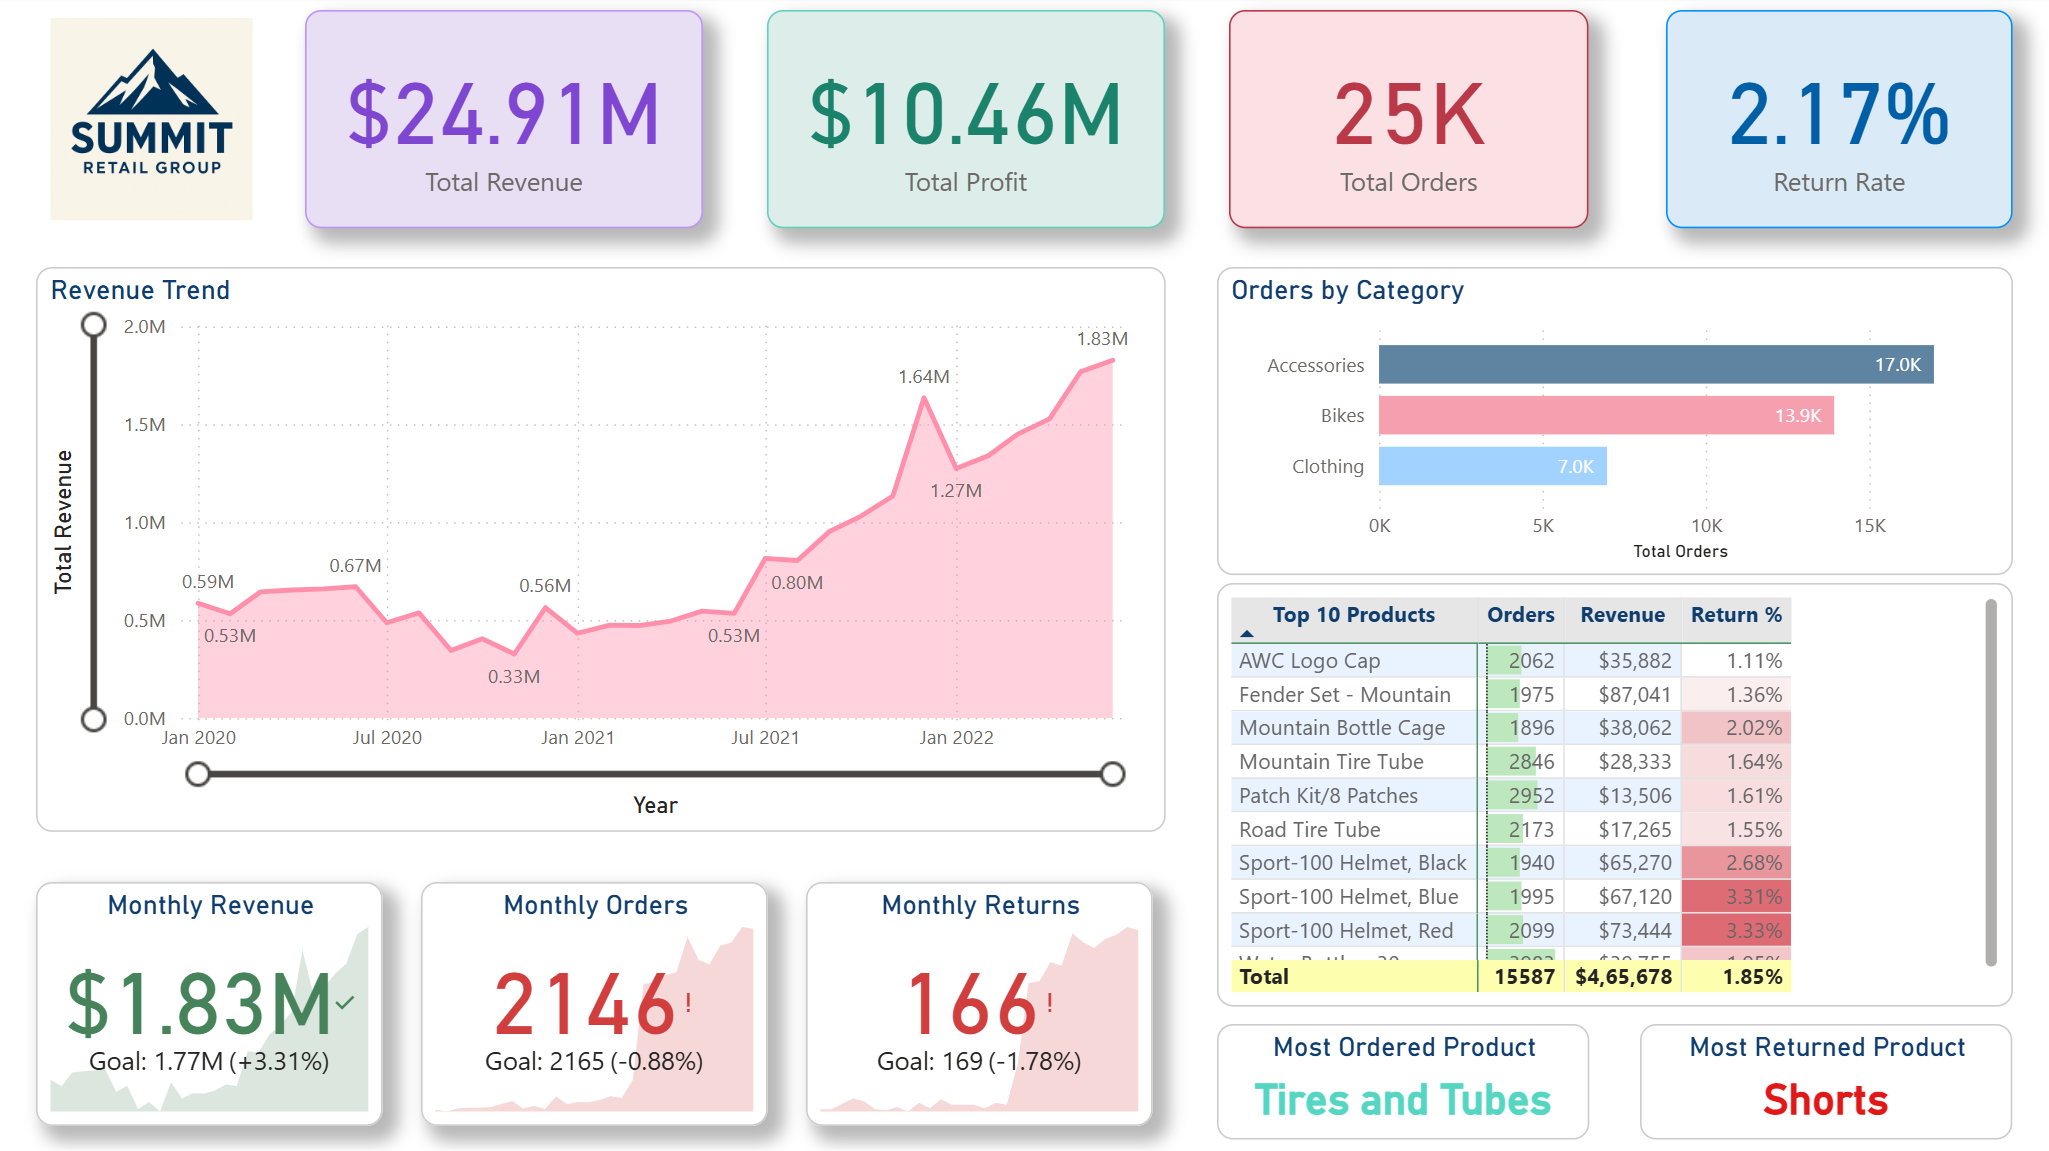

The page's visual inventory and layout, read from the dashboard file:
{"tool":"powerbi","page":{"name":"Executive Summary","canvas":[1280,720],"ordinal":0},"visuals":[{"type":"card","fields":{"Values":["Measure Table.Total Revenue"]},"box":[192,8,248,136],"z":0},{"type":"card","fields":{"Values":["Measure Table.Total Profit"]},"box":[480,8,248,136],"z":1000},{"type":"card","fields":{"Values":["Measure Table.Total Orders"]},"box":[768,8,224,136],"z":2000},{"type":"card","fields":{"Values":["Measure Table.Return Rate"]},"box":[1040,8,216,136],"z":3000},{"type":"image","box":[24,8,144,136],"z":4000},{"type":"clusteredBarChart","title":"Orders by Category","fields":{"Y":["Measure Table.Total Orders"],"Category":["Categories.CategoryName"]},"box":[760,168,496,192],"z":5000},{"type":"lineChart","title":"Revenue Trend","fields":{"Y":["Measure Table.Total Revenue"],"Category":["Calendar.Date.Variation.Date Hierarchy.Year","Calendar.Date.Variation.Date Hierarchy.Quarter","Calendar.Date.Variation.Date Hierarchy.Month"]},"box":[24,168,704,352],"z":6000},{"type":"kpi","title":"Monthly Revenue","fields":{"Indicator":["Measure Table.Total Revenue"],"TrendLine":["Calendar.Start of Month"],"Goal":["Measure Table.Previous Month Revenue"]},"box":[24,551.7,216,152],"z":7000},{"type":"kpi","title":"Monthly Orders","fields":{"TrendLine":["Calendar.Start of Month"],"Indicator":["Measure Table.Total Orders"],"Goal":["Measure Table.Previous Month Orders"]},"box":[264,551.7,216,152],"z":8000},{"type":"kpi","title":"Monthly Returns","fields":{"TrendLine":["Calendar.Start of Month"],"Indicator":["Measure Table.Total Returns"],"Goal":["Measure Table.Previous Month Returns"]},"box":[504,551.7,216,152],"z":9000},{"type":"card","title":"Most Ordered Product","fields":{"Values":["Min(Subcategories.SubcategoryName)"]},"box":[760,640,232,72],"z":10000},{"type":"card","title":"Most Returned Product","fields":{"Values":["Min(Subcategories.SubcategoryName)"]},"box":[1024,640,232,72],"z":11000},{"type":"pivotTable","fields":{"Rows":["Product.ProductName"],"Values":["Measure Table.Total Orders","Measure Table.Total Revenue","Measure Table.Return Rate"]},"box":[760,365.1,496,264],"z":12000}]}

Visuals, with their boxes in screenshot pixels (x1, y1, x2, y2), scaled from the page's 1280x720 canvas onto the 2049x1151 screenshot:
card - Measure Table.Total Revenue: Rect(307, 13, 704, 230)
card - Measure Table.Total Profit: Rect(768, 13, 1165, 230)
card - Measure Table.Total Orders: Rect(1229, 13, 1588, 230)
card - Measure Table.Return Rate: Rect(1665, 13, 2011, 230)
image: Rect(38, 13, 269, 230)
"Orders by Category" clusteredBarChart: Rect(1217, 269, 2011, 576)
"Revenue Trend" lineChart: Rect(38, 269, 1165, 831)
"Monthly Revenue" kpi: Rect(38, 882, 384, 1125)
"Monthly Orders" kpi: Rect(423, 882, 768, 1125)
"Monthly Returns" kpi: Rect(807, 882, 1153, 1125)
"Most Ordered Product" card: Rect(1217, 1023, 1588, 1138)
"Most Returned Product" card: Rect(1639, 1023, 2011, 1138)
pivotTable - Product.ProductName x Measure Table.Total Orders: Rect(1217, 584, 2011, 1006)
